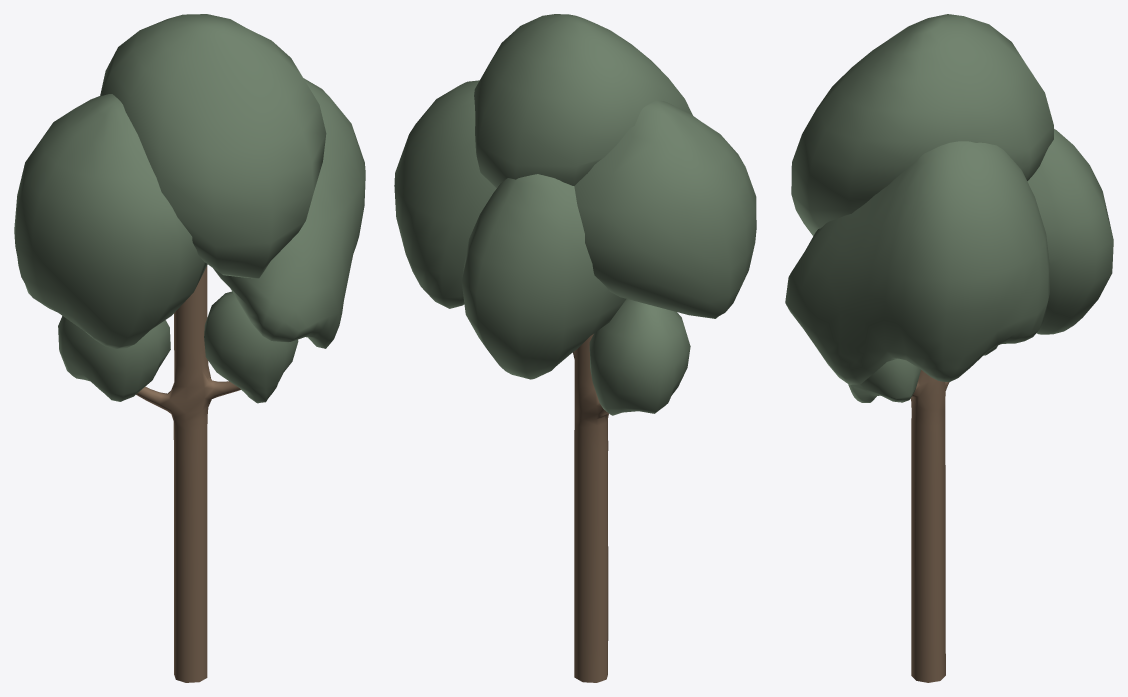
Rendered from a3d_tree_birch_03.fbx.
3 views of the same model, side by side, from view 1: azimuth 30°, elevation 25°; view 2: azimuth 150°, elevation 25°; view 3: azimuth 270°, elevation 25° (orthographic).
Visible parts, largest first — view 1: a3d_tree_birch_LOD0; view 2: a3d_tree_birch_LOD0; view 3: a3d_tree_birch_LOD0.
Part boxes in pixels (box(x1,y1,x2,y2)): a3d_tree_birch_LOD0: box(14, 14, 365, 682); a3d_tree_birch_LOD0: box(394, 14, 756, 682); a3d_tree_birch_LOD0: box(785, 14, 1113, 682).
Size of what is drawn, in the model's own units: 15.43 by 28.75 by 12.98.
